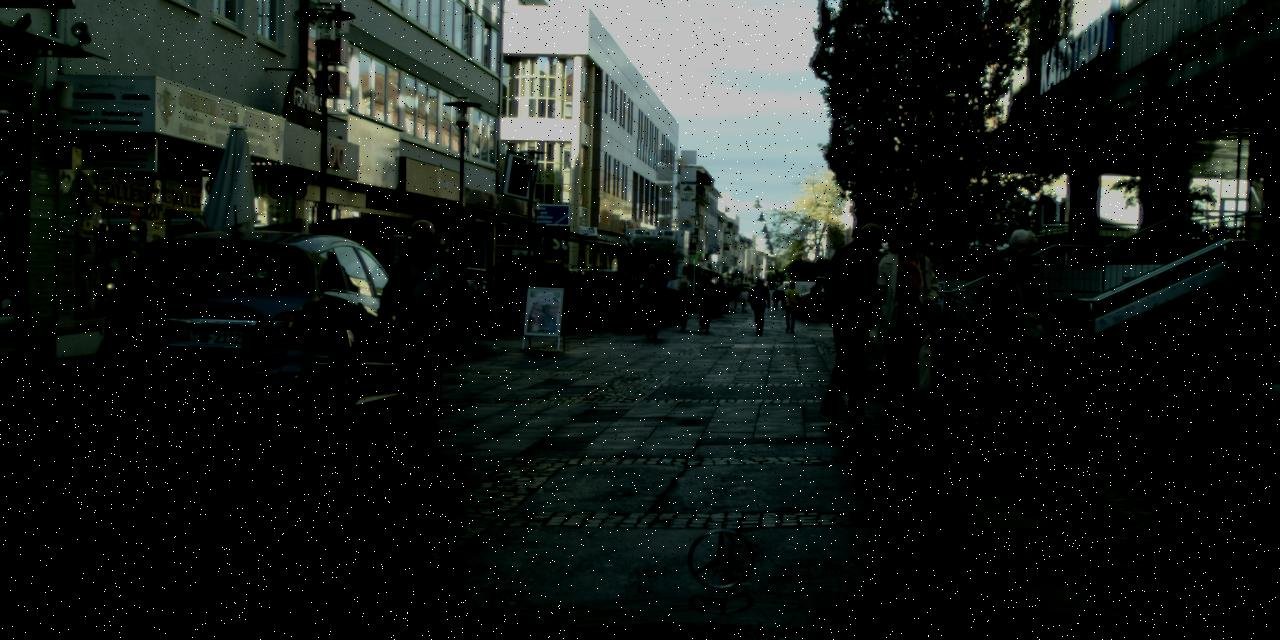ped: (377, 218, 466, 438), (969, 228, 1050, 426), (818, 221, 898, 421), (871, 227, 948, 414), (636, 264, 666, 336), (692, 272, 716, 332), (747, 278, 769, 334), (673, 280, 693, 330), (781, 282, 801, 330), (808, 278, 823, 316), (713, 276, 728, 313), (720, 283, 731, 313), (728, 286, 738, 312), (771, 286, 780, 310), (740, 288, 749, 311), (779, 290, 786, 309)
